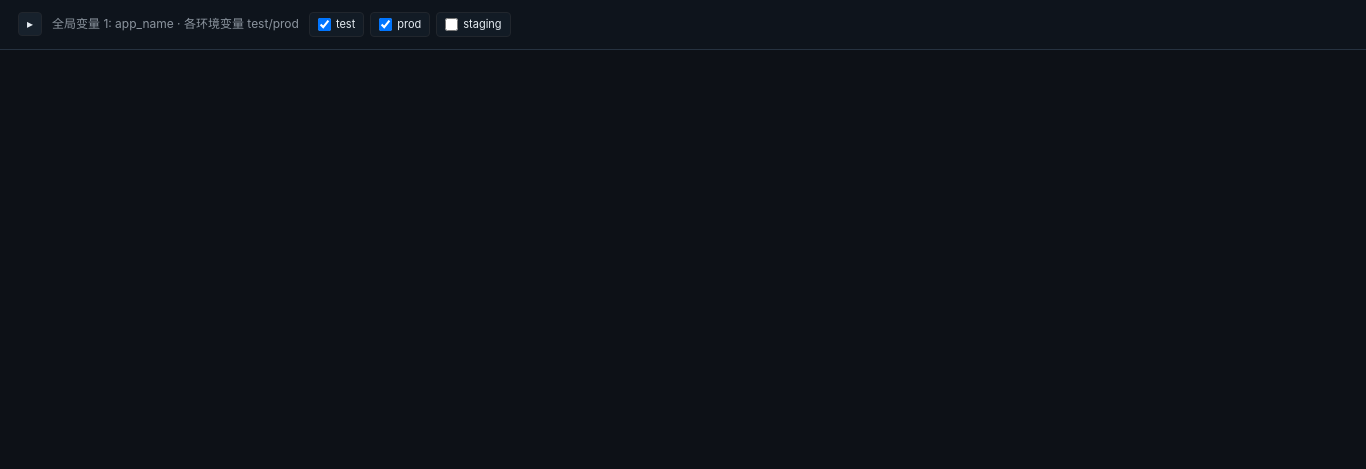
Test case: PipelineEnvMatrix › opens run group host dropdowns inside the variable table
The width and height of the screenshot is (1366, 469).
Step 1. Click the button with test id "env-matrix-toggle" → (30, 24), box [18, 12, 42, 36]
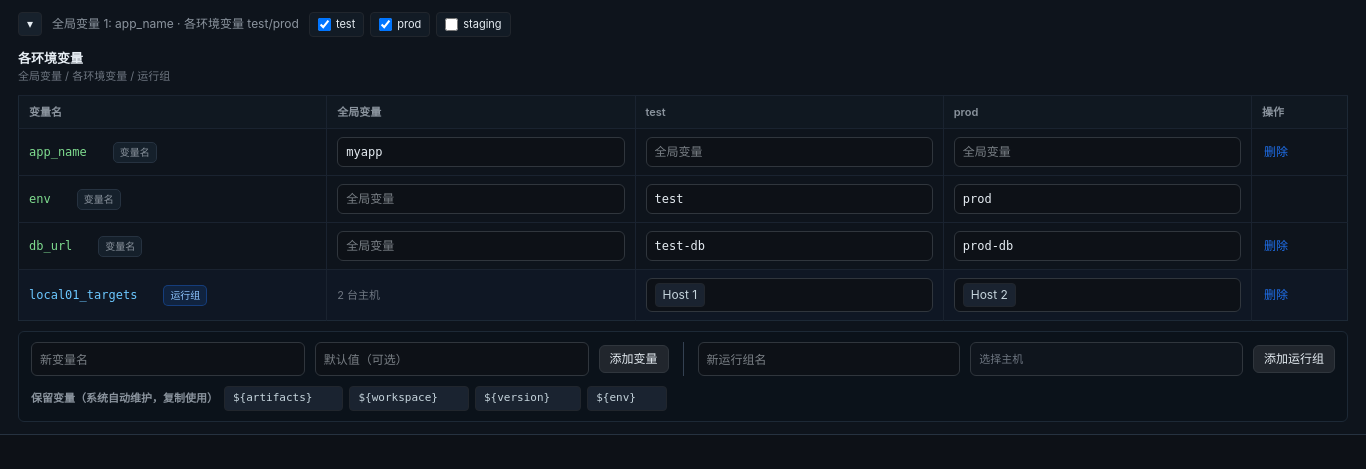
Step 2. Click the button with test id "role-host-trigger-test-local01_targets" → (680, 295), box [646, 278, 933, 312]
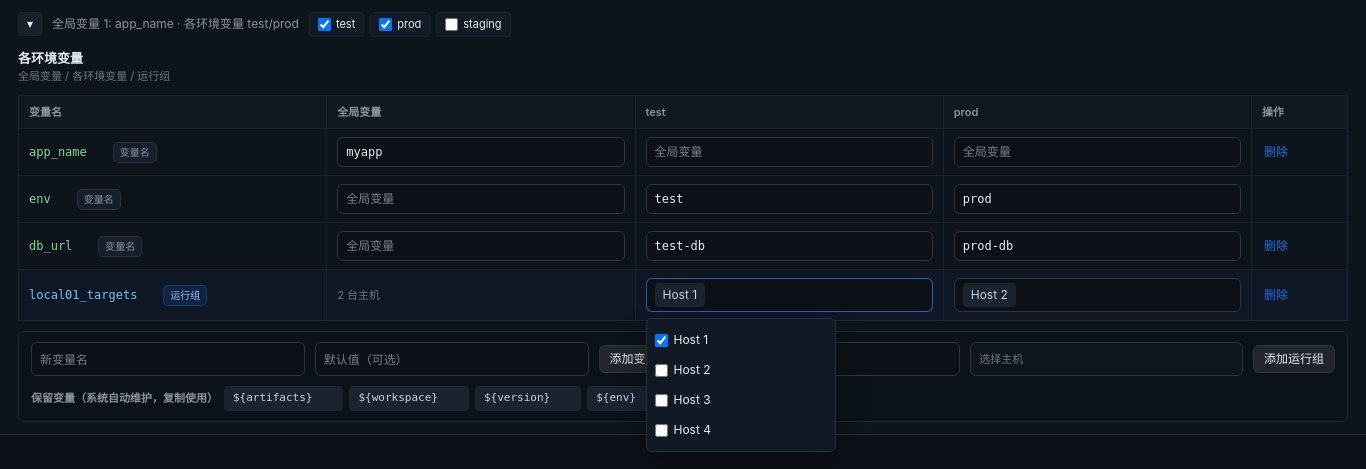
Now the element with test id "role-host-menu-test-local01_targets" shows "Host 1", box [674, 332, 708, 347]
Now the element with test id "role-host-menu-test-local01_targets" shows "Host 2", box [674, 362, 711, 377]
Now the checkbox with test id "role-host-test-local01_targets-h1" is checked, box [654, 334, 668, 346]
